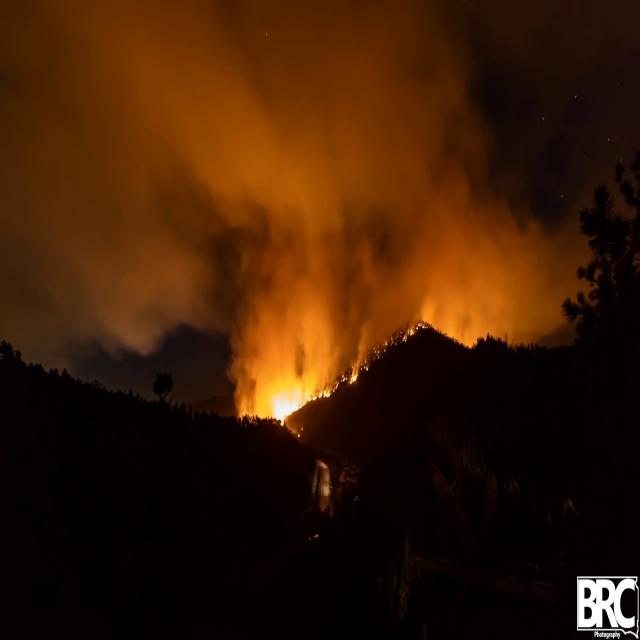Fire: (242, 378, 306, 433), (307, 369, 345, 399), (402, 318, 422, 344), (348, 372, 356, 384)
